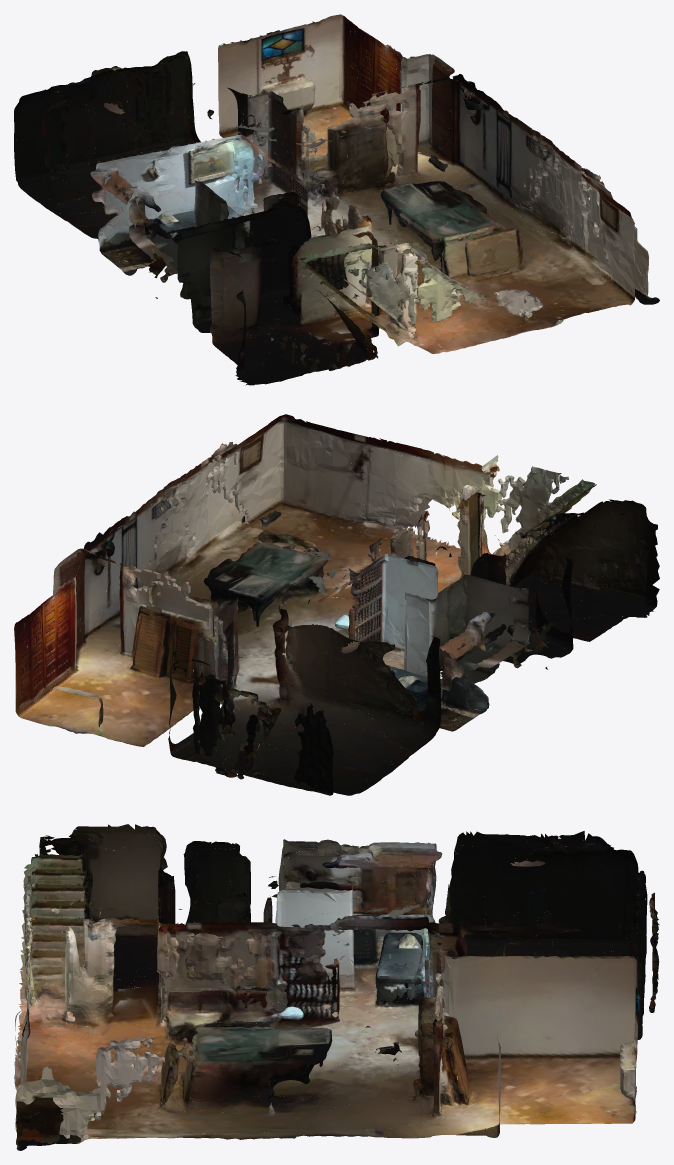
Rendered from esc_sotanos_muros_05.glb.
The picture shows the model from 3 angles, top to bottom: view 1: azimuth 30°, elevation 25°; view 2: azimuth 150°, elevation 25°; view 3: azimuth 270°, elevation 25°; orthographic projection. The views are drawn at different scales.
Visible parts, largest first — view 1: muros_Salon_y_porche_5_GLTF_12, muros_Salon_y_porche_5_GLTF_5, muros_Salon_y_porche_5_GLTF_11, muros_Salon_y_porche_5_GLTF_3, muros_Salon_y_porche_5_GLTF_7, muros_Salon_y_porche_5_GLTF_1, muros_Salon_y_porche_5_GLTF_13, muros_Salon_y_porche_5_GLTF_4, muros_Salon_y_porche_5_GLTF_8, muros_Salon_y_porche_5_GLTF_2, muros_Salon_y_porche_5_GLTF, muros_Salon_y_porche_5_GLTF_10 (+2 smaller); view 2: muros_Salon_y_porche_5_GLTF_12, muros_Salon_y_porche_5_GLTF_3, muros_Salon_y_porche_5_GLTF_9, muros_Salon_y_porche_5_GLTF_2, muros_Salon_y_porche_5_GLTF_5, muros_Salon_y_porche_5_GLTF_4, muros_Salon_y_porche_5_GLTF_7, muros_Salon_y_porche_5_GLTF_11, muros_Salon_y_porche_5_GLTF_13, muros_Salon_y_porche_5_GLTF_8, muros_Salon_y_porche_5_GLTF_1, muros_Salon_y_porche_5_GLTF_6 (+2 smaller); view 3: muros_Salon_y_porche_5_GLTF_1, muros_Salon_y_porche_5_GLTF_11, muros_Salon_y_porche_5_GLTF_3, muros_Salon_y_porche_5_GLTF_5, muros_Salon_y_porche_5_GLTF_12, muros_Salon_y_porche_5_GLTF_9, muros_Salon_y_porche_5_GLTF_7, muros_Salon_y_porche_5_GLTF_10, muros_Salon_y_porche_5_GLTF_8, muros_Salon_y_porche_5_GLTF_2, muros_Salon_y_porche_5_GLTF_13, muros_Salon_y_porche_5_GLTF_4 (+2 smaller).
Boxes of the visible parts, left/top/right/bottom form: muros_Salon_y_porche_5_GLTF_12: left=16, top=55, right=619, bottom=353; muros_Salon_y_porche_5_GLTF_5: left=129, top=51, right=609, bottom=352; muros_Salon_y_porche_5_GLTF_11: left=47, top=69, right=635, bottom=374; muros_Salon_y_porche_5_GLTF_3: left=14, top=28, right=646, bottom=355; muros_Salon_y_porche_5_GLTF_7: left=54, top=68, right=601, bottom=372; muros_Salon_y_porche_5_GLTF_1: left=42, top=26, right=635, bottom=354; muros_Salon_y_porche_5_GLTF_13: left=47, top=55, right=659, bottom=373; muros_Salon_y_porche_5_GLTF_4: left=126, top=14, right=658, bottom=338; muros_Salon_y_porche_5_GLTF_8: left=49, top=15, right=540, bottom=371; muros_Salon_y_porche_5_GLTF_2: left=61, top=51, right=604, bottom=371; muros_Salon_y_porche_5_GLTF: left=60, top=37, right=636, bottom=370; muros_Salon_y_porche_5_GLTF_10: left=72, top=68, right=520, bottom=348; muros_Salon_y_porche_5_GLTF_12: left=38, top=424, right=573, bottom=795; muros_Salon_y_porche_5_GLTF_3: left=30, top=439, right=606, bottom=794; muros_Salon_y_porche_5_GLTF_9: left=75, top=430, right=571, bottom=794; muros_Salon_y_porche_5_GLTF_2: left=25, top=443, right=648, bottom=753; muros_Salon_y_porche_5_GLTF_5: left=53, top=423, right=629, bottom=682; muros_Salon_y_porche_5_GLTF_4: left=15, top=463, right=587, bottom=710; muros_Salon_y_porche_5_GLTF_7: left=98, top=474, right=628, bottom=767; muros_Salon_y_porche_5_GLTF_11: left=51, top=414, right=642, bottom=780; muros_Salon_y_porche_5_GLTF_13: left=102, top=453, right=614, bottom=753; muros_Salon_y_porche_5_GLTF_8: left=14, top=489, right=598, bottom=787; muros_Salon_y_porche_5_GLTF_1: left=53, top=466, right=642, bottom=746; muros_Salon_y_porche_5_GLTF_6: left=15, top=452, right=659, bottom=722; muros_Salon_y_porche_5_GLTF_1: left=16, top=830, right=640, bottom=1143; muros_Salon_y_porche_5_GLTF_11: left=20, top=830, right=645, bottom=1139; muros_Salon_y_porche_5_GLTF_3: left=22, top=834, right=640, bottom=1138; muros_Salon_y_porche_5_GLTF_5: left=15, top=873, right=629, bottom=1138; muros_Salon_y_porche_5_GLTF_12: left=16, top=839, right=647, bottom=1139; muros_Salon_y_porche_5_GLTF_9: left=23, top=871, right=645, bottom=1135; muros_Salon_y_porche_5_GLTF_7: left=14, top=863, right=644, bottom=1139; muros_Salon_y_porche_5_GLTF_10: left=23, top=826, right=636, bottom=1112; muros_Salon_y_porche_5_GLTF_8: left=15, top=844, right=636, bottom=1132; muros_Salon_y_porche_5_GLTF_2: left=26, top=835, right=642, bottom=1123; muros_Salon_y_porche_5_GLTF_13: left=14, top=824, right=634, bottom=1150; muros_Salon_y_porche_5_GLTF_4: left=16, top=863, right=635, bottom=1149.
Size of the model in its own units: 8.81 by 2.45 by 11.05.
14 materials, 14 textured.
